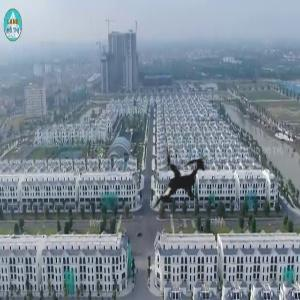drone: (120, 124, 236, 240)
